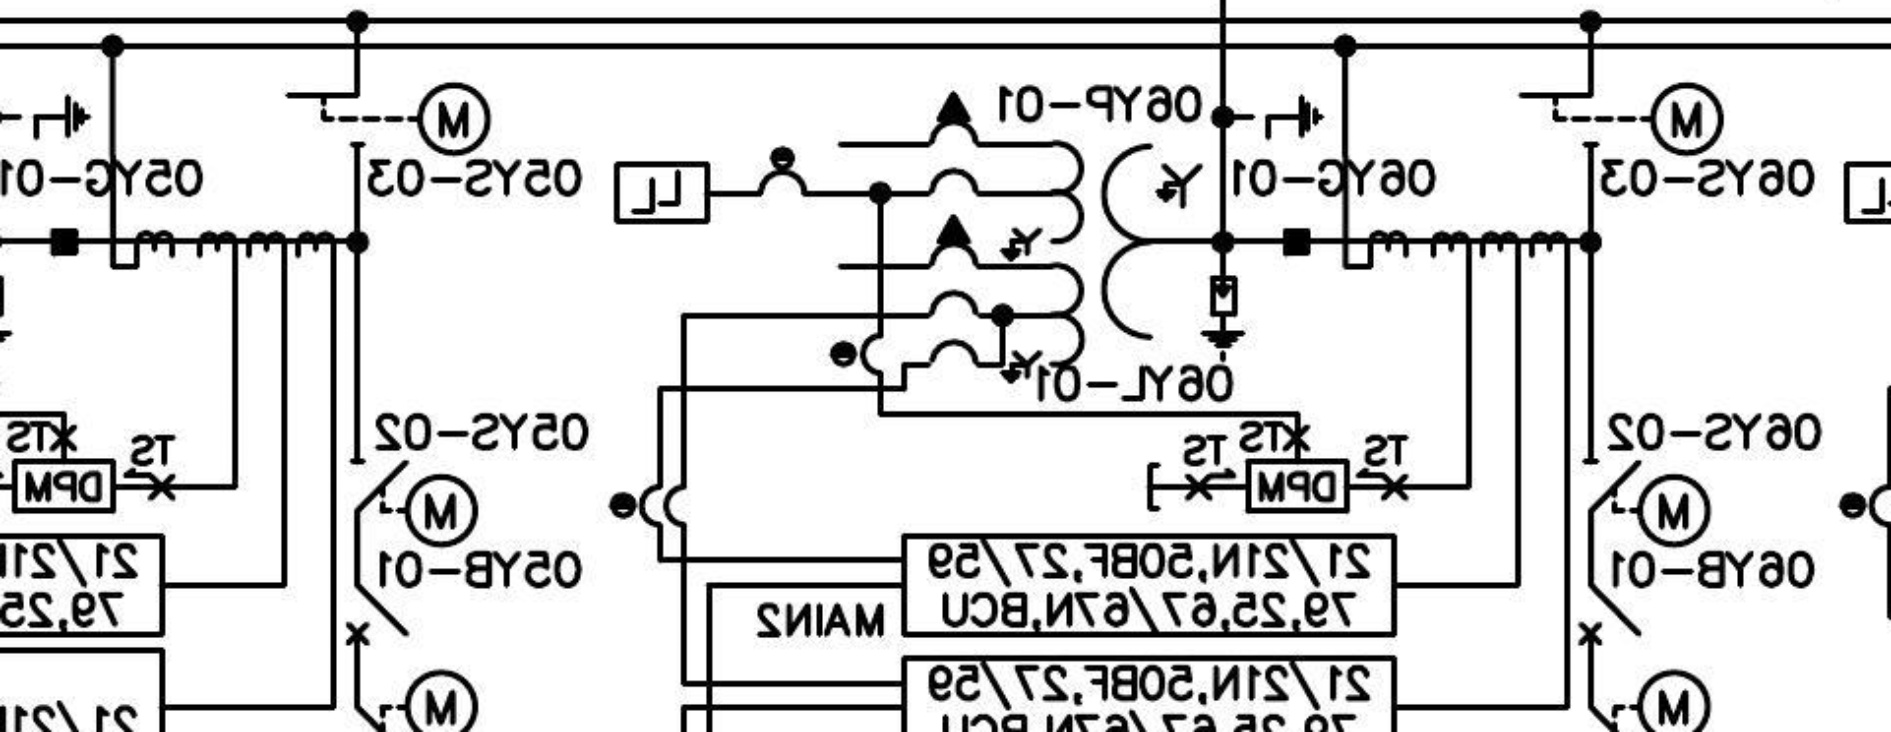115_1way_ds_w_motor: (1516, 82, 1727, 159), (284, 82, 495, 159), (348, 457, 481, 550), (1580, 457, 1713, 549)
115_breaker: (1576, 584, 1643, 647), (344, 584, 411, 647)
115_gs: (1246, 92, 1327, 142), (14, 92, 95, 142)
115_la: (1199, 275, 1247, 364)
115_vt_3p: (926, 89, 1205, 385)
DPM: (1245, 458, 1350, 515), (13, 458, 118, 515)
LL: (612, 160, 711, 225)
